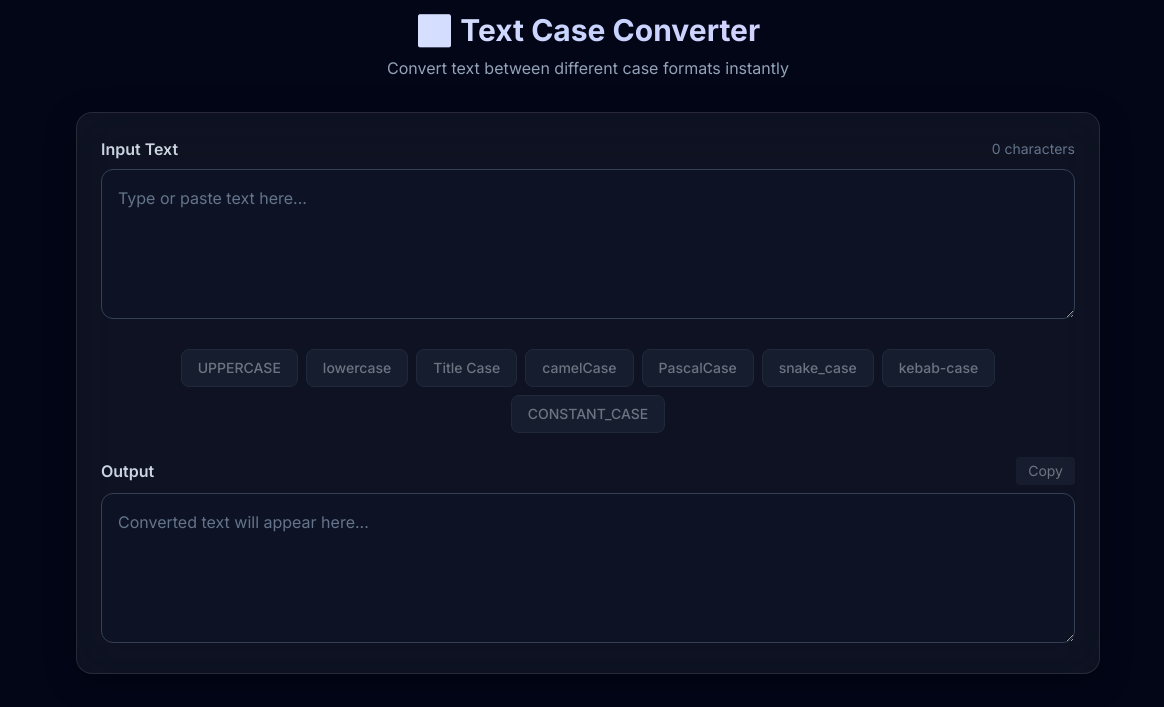
Test: Text Case Converter › converts text to UPPERCASE
Type "hello world" into the text box with placeholder "Type or paste text here..." at [588, 244], box [101,169,1075,319]
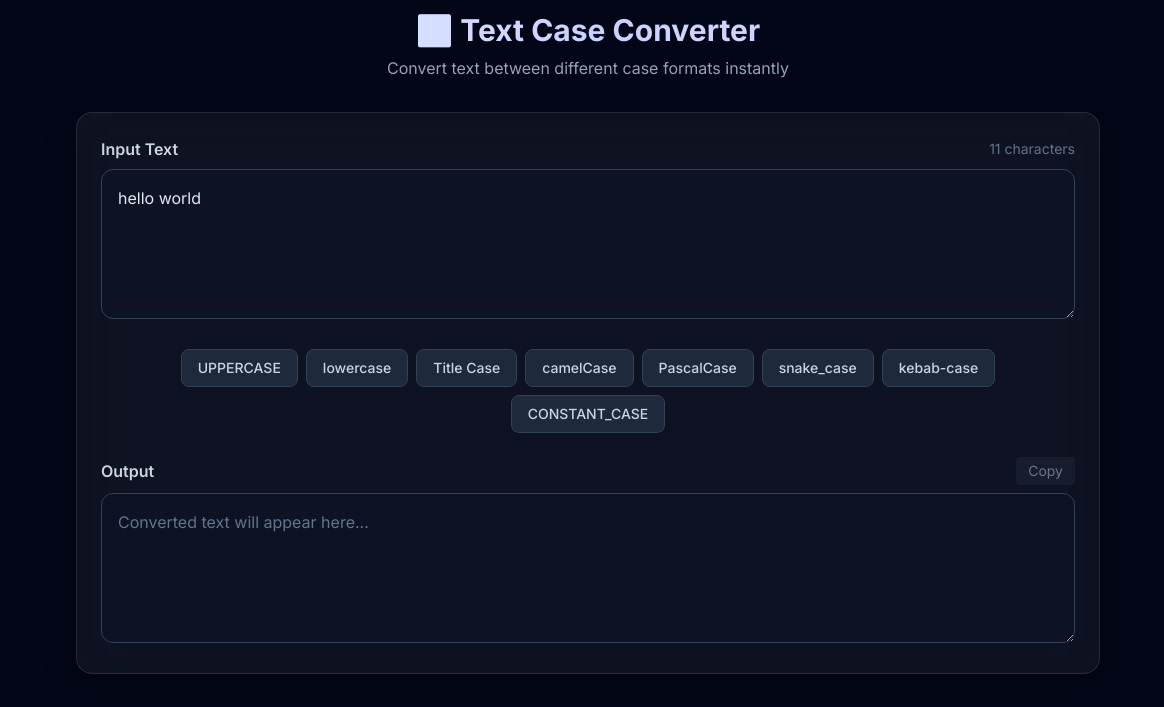
Click the button "UPPERCASE" at [239, 368], box [181,349,298,387]
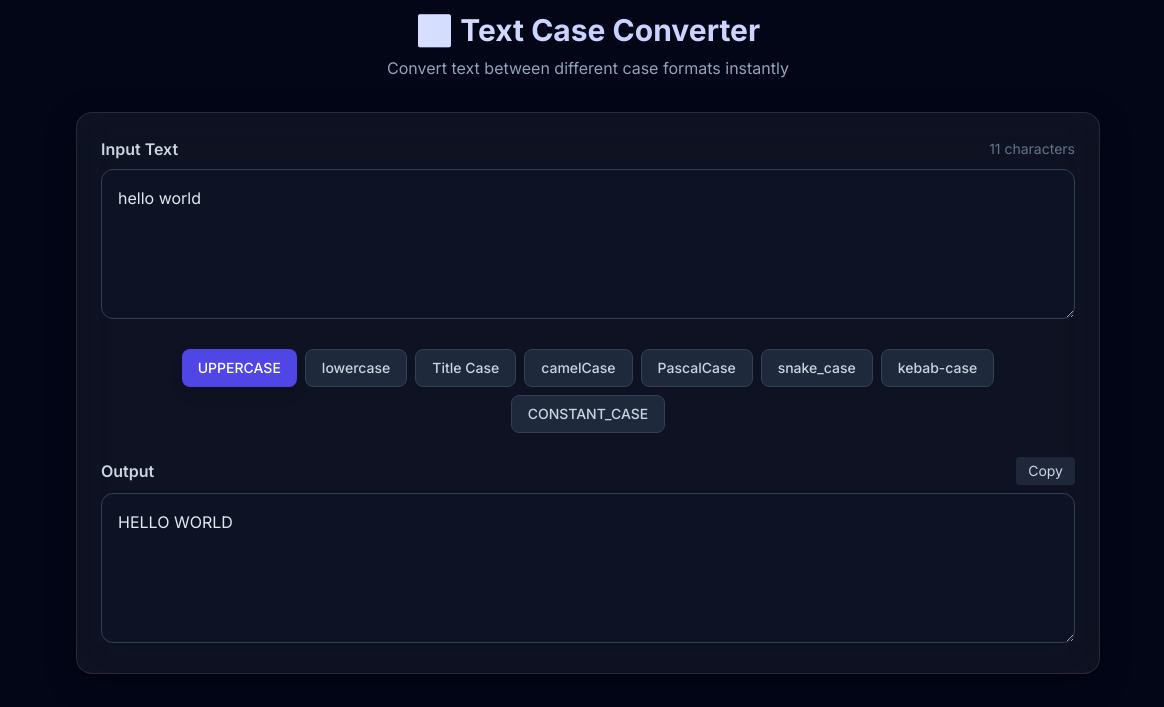
Check: the text box showing "HELLO WORLD" below "Output" is shown, box [101,493,1075,643]
